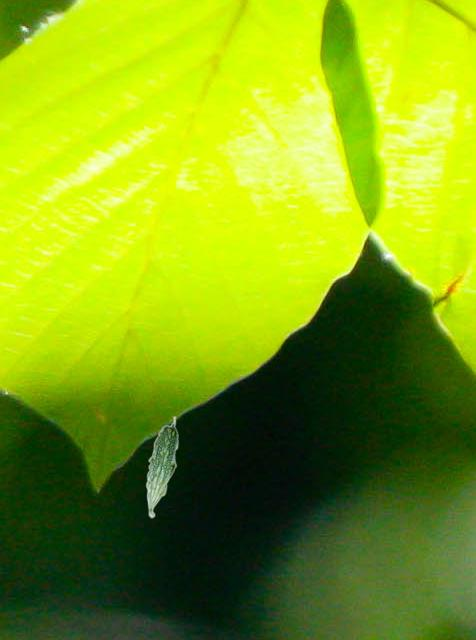ampalaya: (145, 415, 179, 518)
